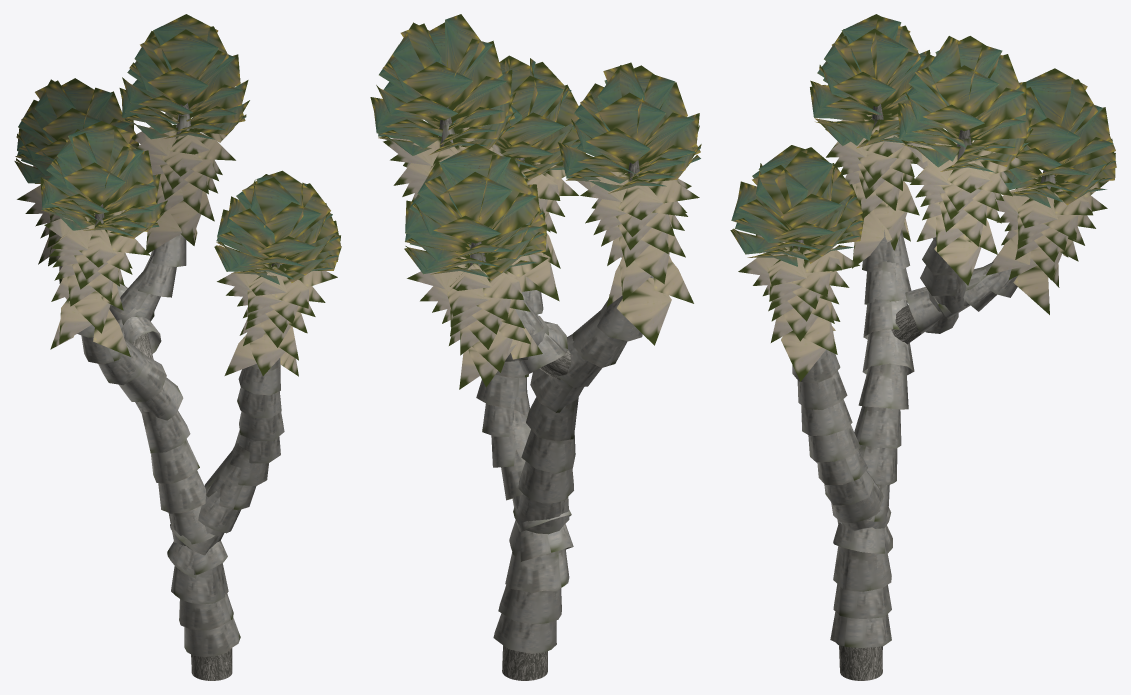
The picture shows the model from 3 angles, left to right: view 1: azimuth 30°, elevation 25°; view 2: azimuth 150°, elevation 25°; view 3: azimuth 270°, elevation 25°; orthographic projection. The views are drawn at different scales.
Visible parts, largest first — view 1: jt2; view 2: jt2; view 3: jt2.
Boxes of the visible parts, x1,y1,x2,y2 form: jt2: [14, 14, 341, 680]; jt2: [370, 14, 701, 680]; jt2: [730, 14, 1116, 680].
Size of the model in its own units: 1.03 by 2.4 by 1.31.
